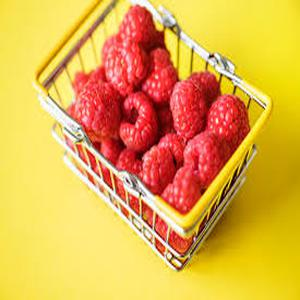raspb: (89, 69, 219, 160)
